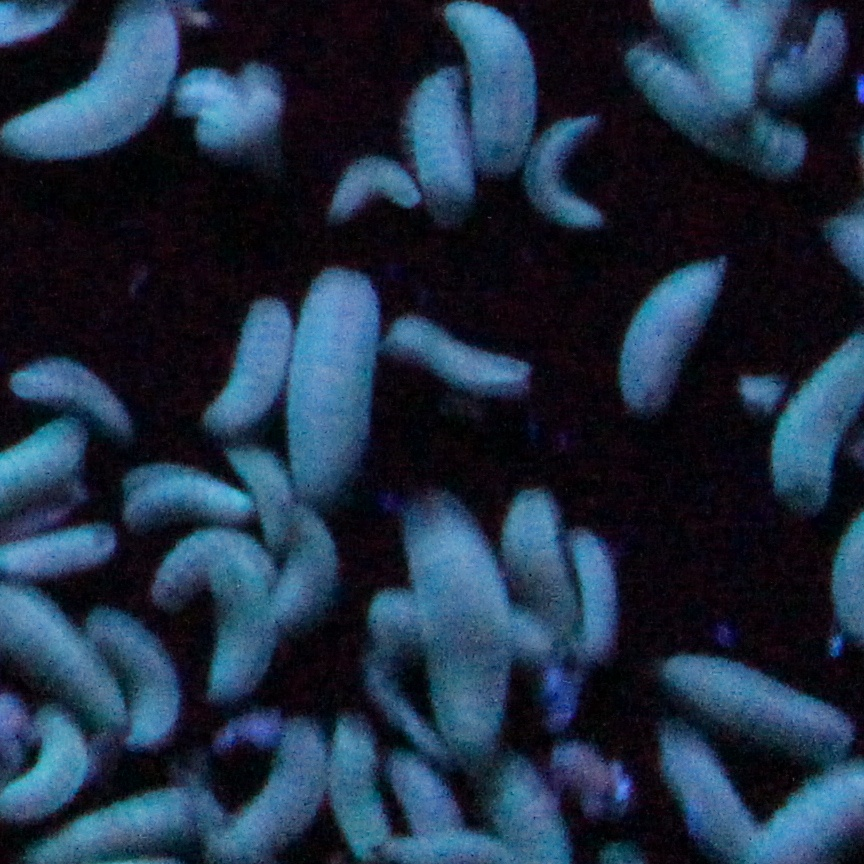larve: (414, 514, 509, 744), (283, 270, 378, 494), (607, 250, 732, 419), (194, 281, 299, 444), (376, 308, 548, 404), (516, 104, 616, 230), (2, 340, 142, 430), (317, 142, 430, 235), (119, 457, 247, 532)
